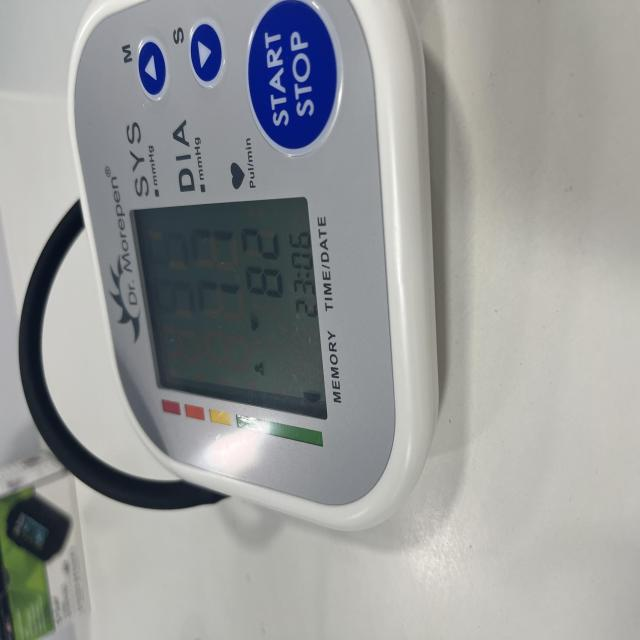bp: (65, 0, 438, 538)
